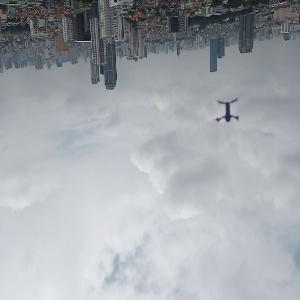drone: (210, 97, 249, 136)
